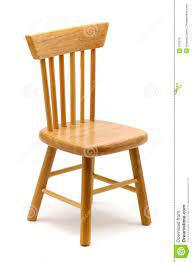chair: (15, 12, 161, 245)
